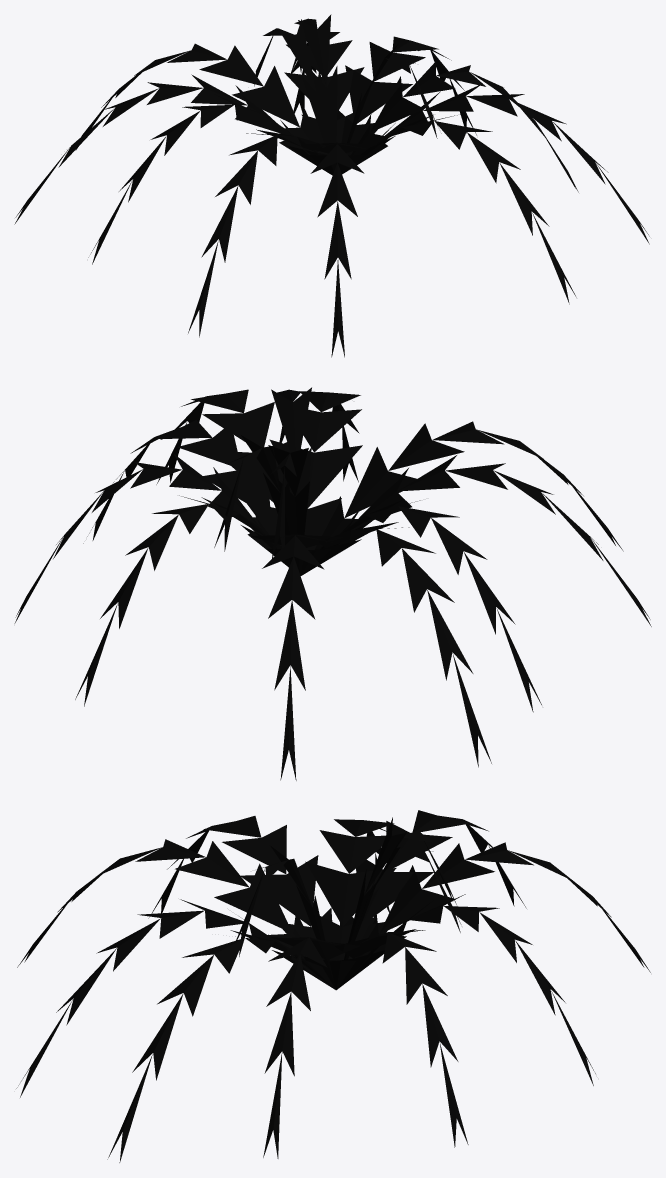
Rendered from SM_fern_large.fbx.
The picture shows the model from 3 angles, top to bottom: view 1: azimuth 30°, elevation 25°; view 2: azimuth 150°, elevation 25°; view 3: azimuth 270°, elevation 25°; orthographic projection. The views are drawn at different scales.
Visible parts, largest first — view 1: fern_large; view 2: fern_large; view 3: fern_large.
Boxes of the visible parts, x1,y1,x2,y2 form: fern_large: (14,14,649,357); fern_large: (14,387,651,780); fern_large: (16,810,650,1162).
Size of the model in its own units: 2.52 by 0.9475 by 2.64.
